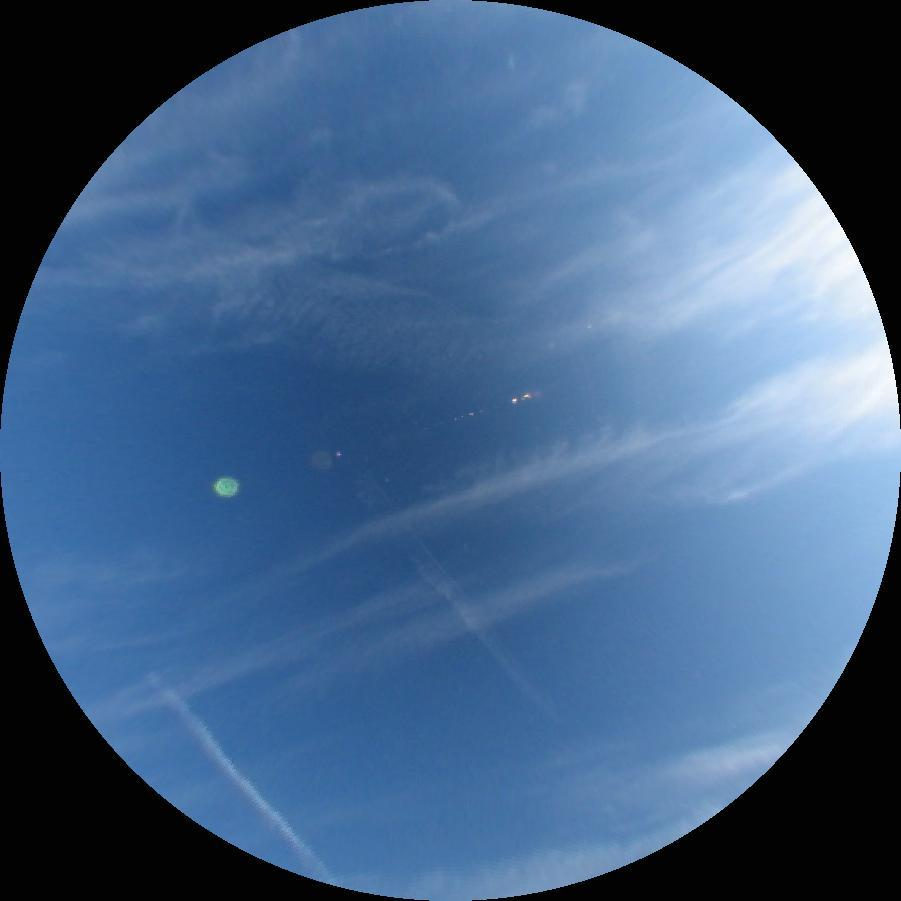contrail old: (143, 668, 334, 884)
contrail veryold: (348, 469, 560, 724)
